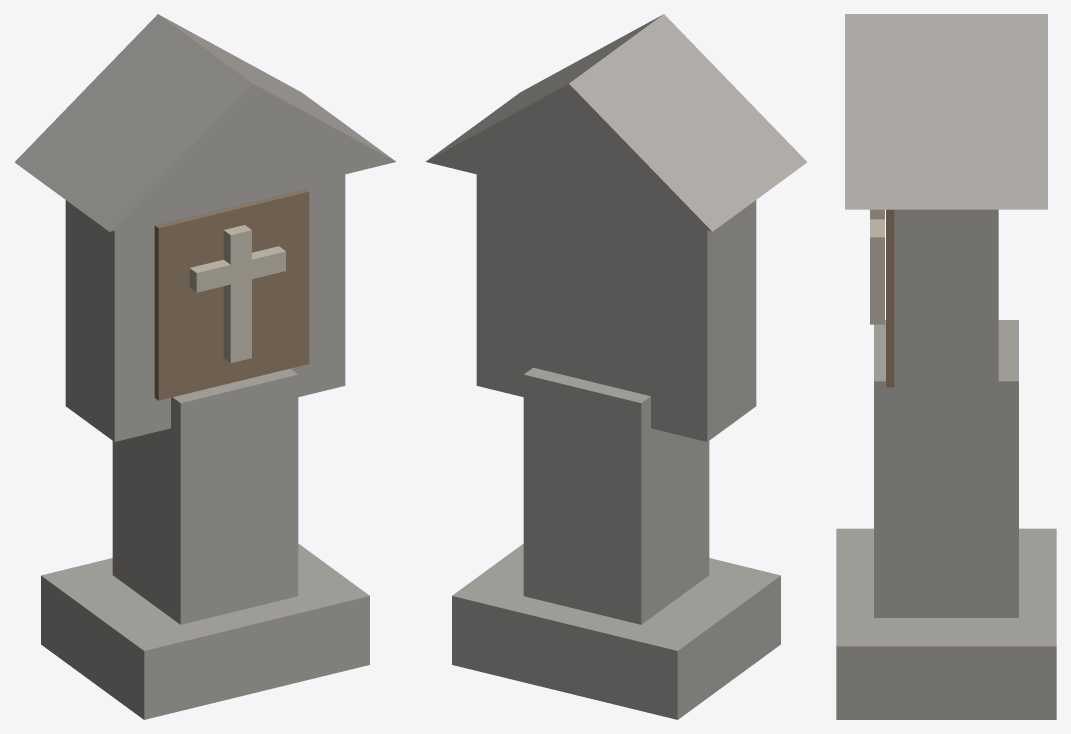
The model's file is wayside-shrine.glb.
The picture shows the model from 3 angles, left to right: view 1: azimuth 30°, elevation 25°; view 2: azimuth 150°, elevation 25°; view 3: azimuth 270°, elevation 25°; orthographic projection. The views are drawn at different scales.
Parts seen in each view (by area): view 1: wayside_shrine; view 2: wayside_shrine; view 3: wayside_shrine.
Part boxes in pixels (x1=…): wayside_shrine: x1=14, y1=14, x2=396, y2=719; wayside_shrine: x1=425, y1=14, x2=807, y2=719; wayside_shrine: x1=836, y1=14, x2=1056, y2=719.
Bounding box in the file's own units: 0.2033 × 0.41 × 0.1267.
